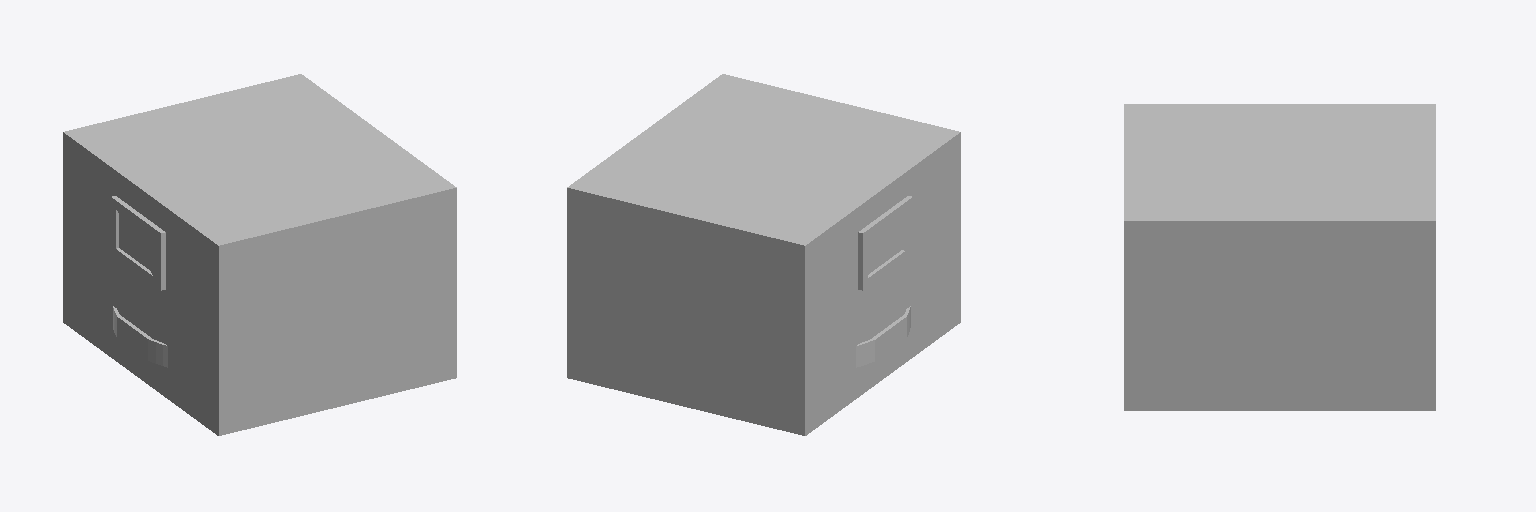
Rendered from FileCabent Drawer (not Animated).obj.
3 views of the same model, side by side, from view 1: azimuth 30°, elevation 25°; view 2: azimuth 150°, elevation 25°; view 3: azimuth 270°, elevation 25° (orthographic).
Parts seen in each view (by area): view 1: Cube.011_Cube.024; view 2: Cube.011_Cube.024; view 3: Cube.011_Cube.024.
Part boxes in pixels (bbox=[...]): Cube.011_Cube.024: bbox=[63, 74, 456, 435]; Cube.011_Cube.024: bbox=[567, 74, 960, 435]; Cube.011_Cube.024: bbox=[1124, 104, 1435, 410].
Size of the model in its own units: 1.68 by 1.24 by 1.84.